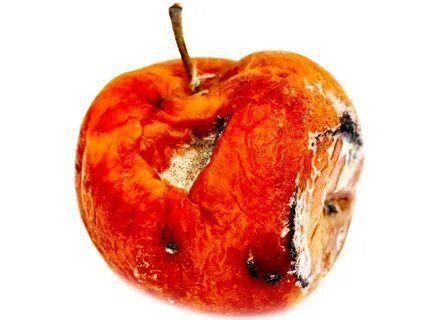Apple: (77, 54, 363, 315)
